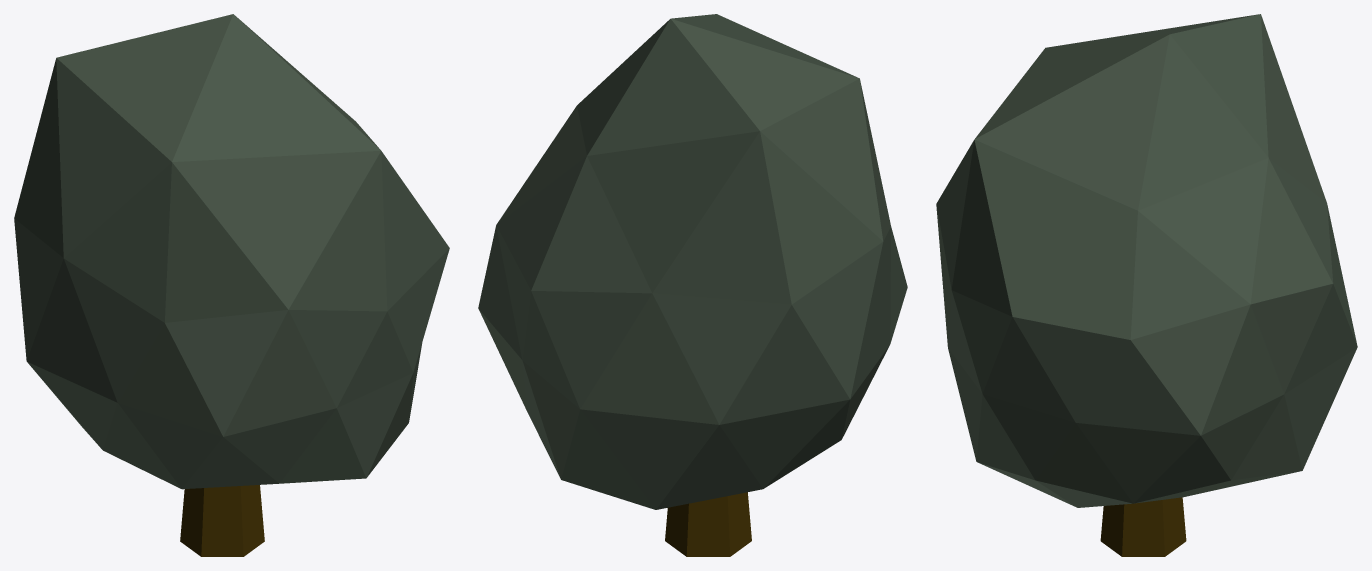
The model's file is ShrubA.fbx.
The picture shows the model from 3 angles, left to right: view 1: azimuth 30°, elevation 25°; view 2: azimuth 150°, elevation 25°; view 3: azimuth 270°, elevation 25°; orthographic projection. The views are drawn at different scales.
Visible parts, largest first — view 1: SketchUp.002; view 2: SketchUp.002; view 3: SketchUp.002.
Part boxes in pixels (x1,y1,x2,y2): SketchUp.002: [14, 14, 449, 556]; SketchUp.002: [478, 14, 907, 556]; SketchUp.002: [936, 14, 1357, 556].
Bounding box in the file's own units: 228 × 307 × 226.
